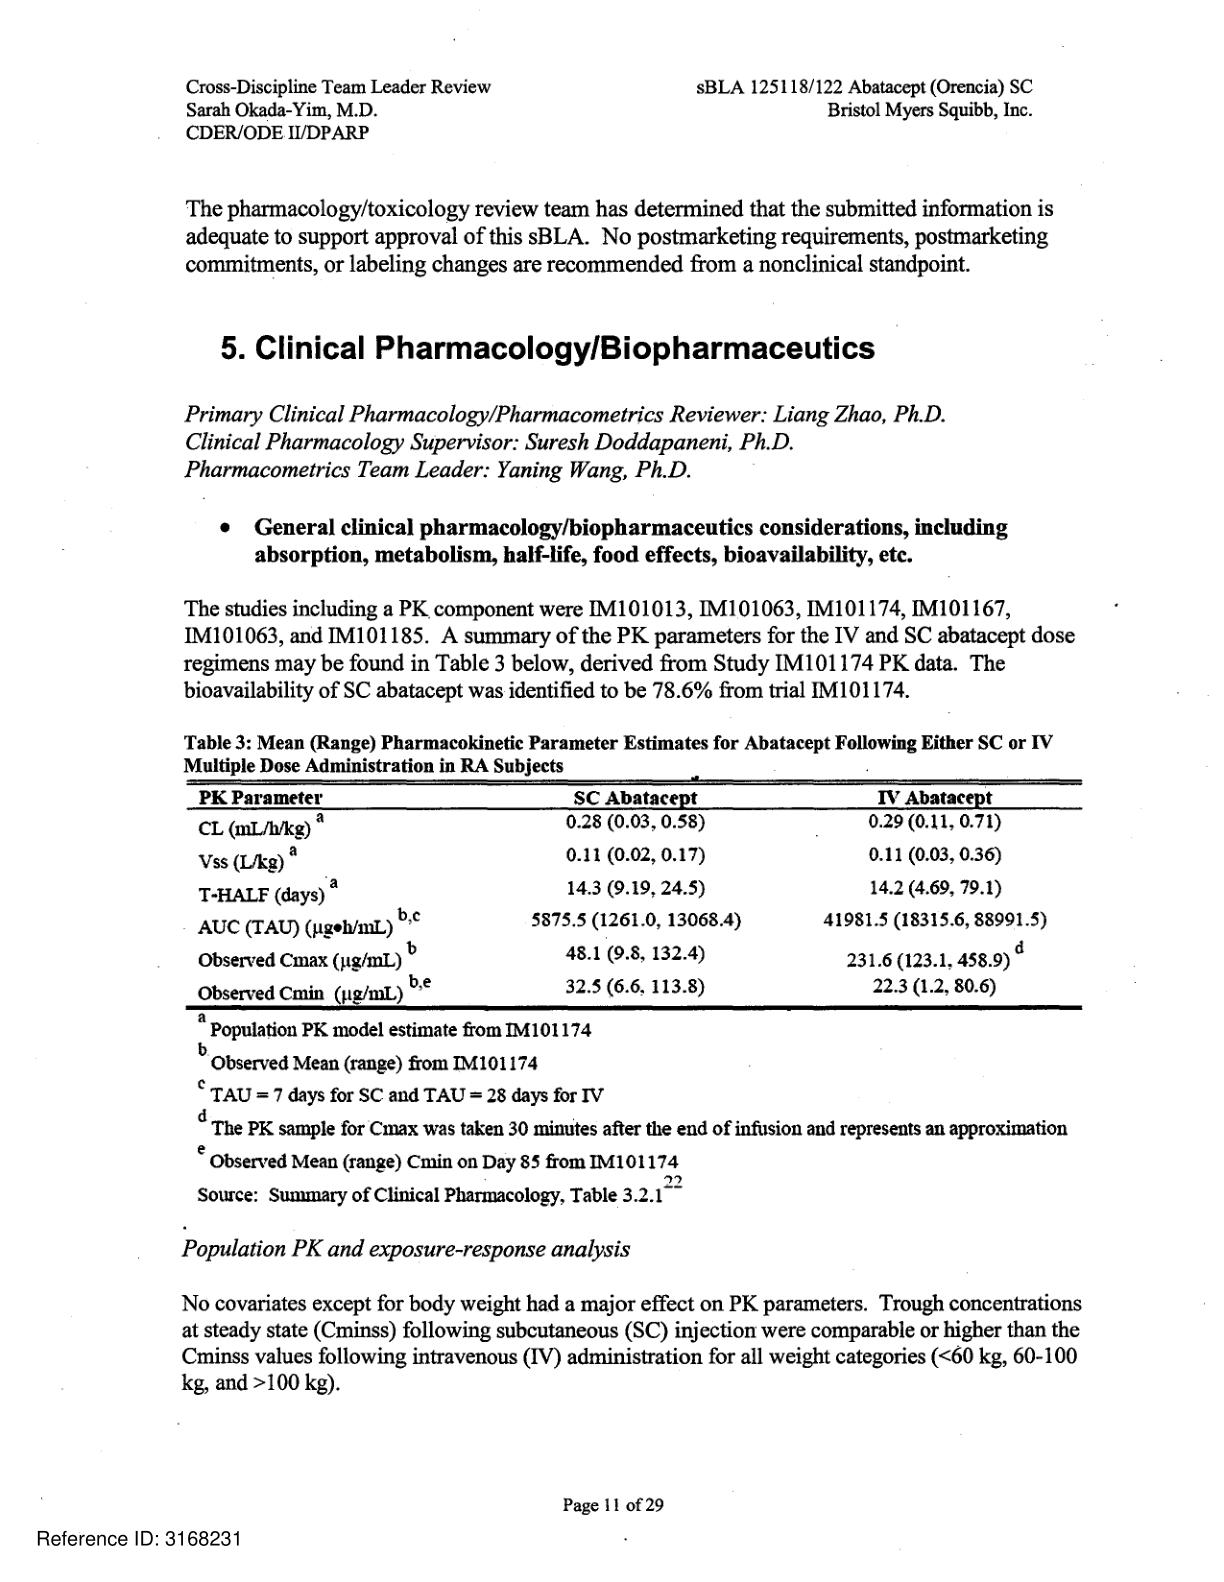partial_lined: (184, 777, 1084, 1012)
